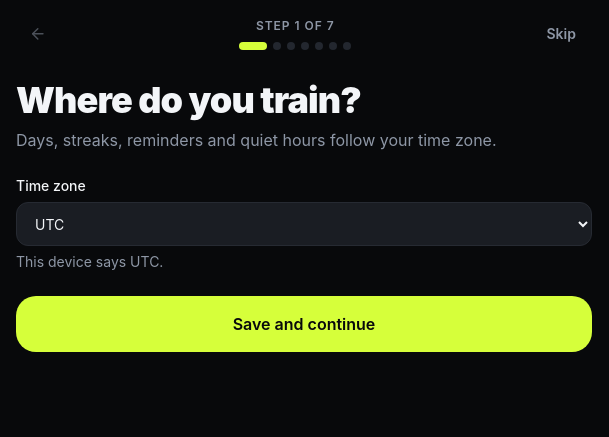
Test: onboarding (P8.13) › stays on a step whose save failed and says so
This screenshot has width=609, height=437.
Step 1. Click the button "Save and continue" → (304, 324), box [16,296,592,352]
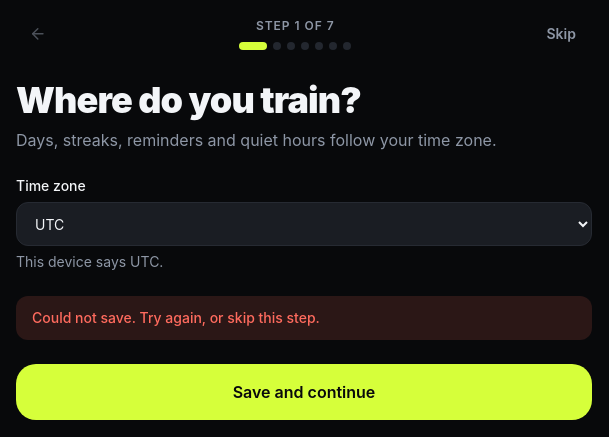
Expected: the heading reads "Where do you train?", [16,78,361,122]
Now the message shows "Could not save.", box [32,309,320,326]
